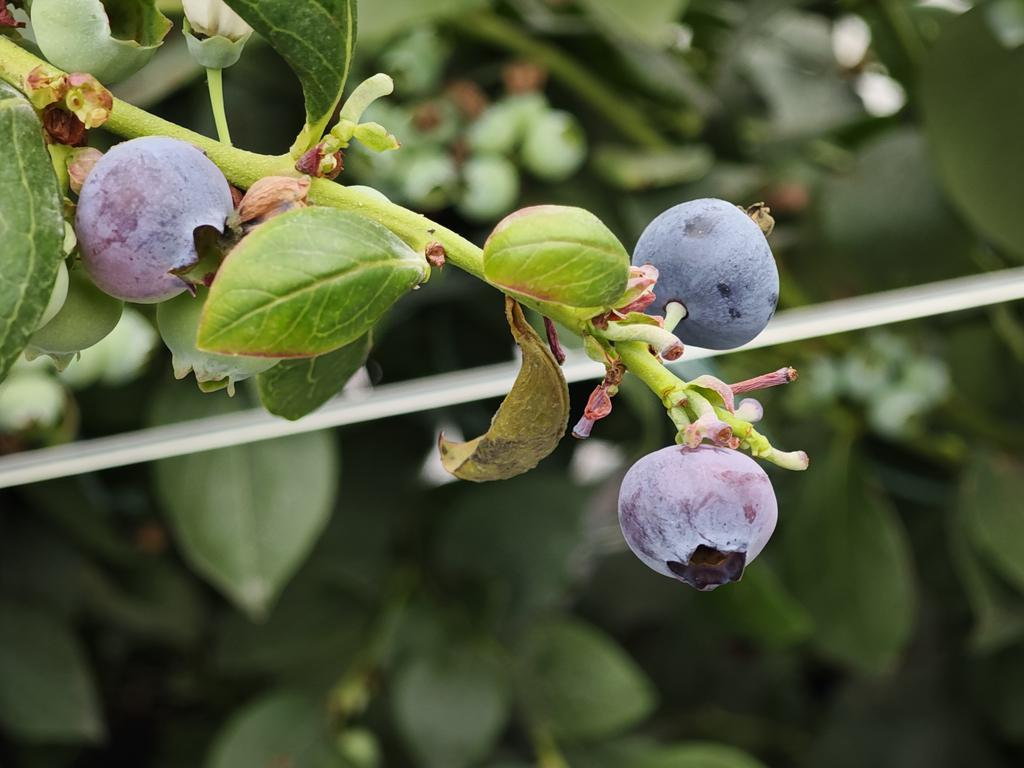RipeBlueBerry: (79, 134, 236, 302), (621, 446, 779, 592), (639, 197, 779, 352)
